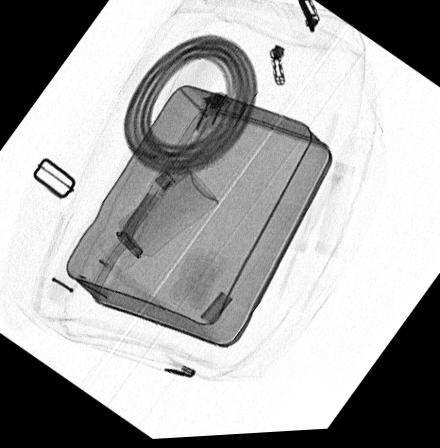Sprayer: (94, 171, 217, 274)
